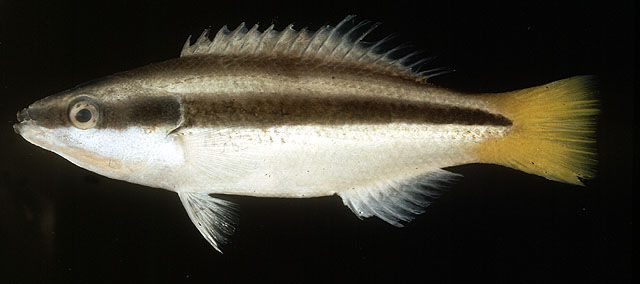fish: (13, 15, 599, 255)
